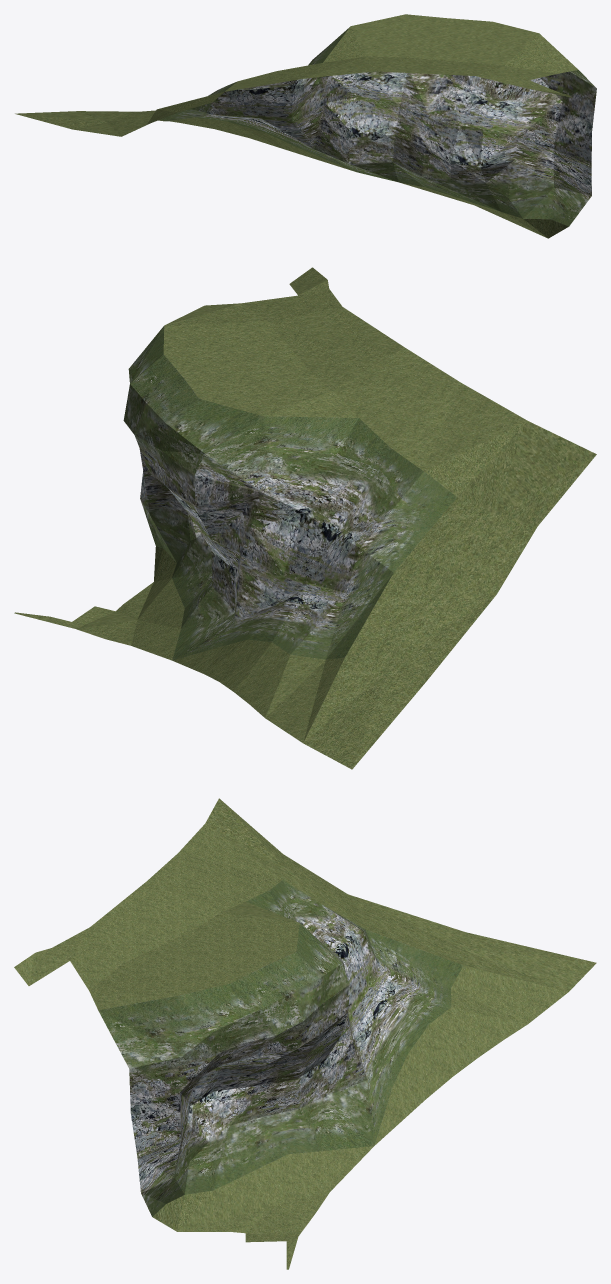
File: cuntehil02.obj
3 views of the same model, one above another, from view 1: azimuth 30°, elevation 25°; view 2: azimuth 150°, elevation 25°; view 3: azimuth 270°, elevation 25° (orthographic). The views are drawn at different scales.
Parts seen in each view (by area): view 1: cuntehil02; view 2: cuntehil02; view 3: cuntehil02.
Boxes of the visible parts, left/top/right/bottom form: cuntehil02: left=15, top=14, right=596, bottom=238; cuntehil02: left=14, top=267, right=596, bottom=769; cuntehil02: left=14, top=798, right=596, bottom=1269.
Bounding box in the file's own units: 211 × 105 × 219.
